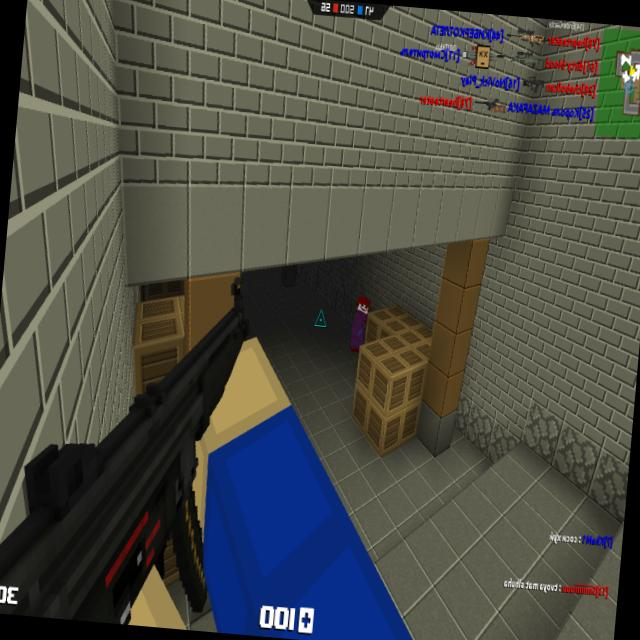enemy: (348, 294, 371, 352)
